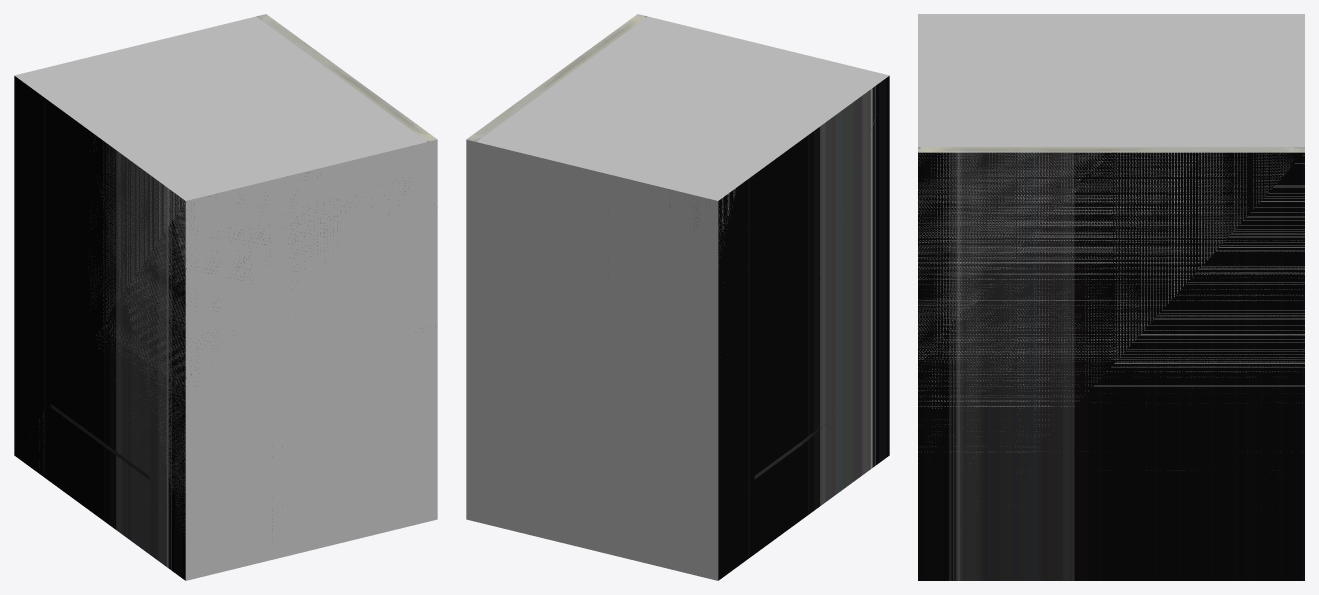
File: stove.DAE
The picture shows the model from 3 angles, left to right: view 1: azimuth 30°, elevation 25°; view 2: azimuth 150°, elevation 25°; view 3: azimuth 270°, elevation 25°; orthographic projection. The views are drawn at different scales.
Parts seen in each view (by area): view 1: bounds, colbox-1, stove100; view 2: bounds, colbox-1, stove100; view 3: colbox-1, bounds, stove100.
Boxes of the visible parts, x1=… form: bounds: x1=14, y1=15, x2=437, y2=580; colbox-1: x1=14, y1=76, x2=420, y2=580; stove100: x1=50, y1=14, x2=437, y2=479; bounds: x1=466, y1=15, x2=889, y2=580; colbox-1: x1=669, y1=76, x2=889, y2=580; stove100: x1=466, y1=14, x2=825, y2=479; colbox-1: x1=918, y1=152, x2=1304, y2=580; bounds: x1=918, y1=14, x2=1304, y2=470; stove100: x1=918, y1=147, x2=1304, y2=152.
Bounding box in the file's own units: 81.49 × 96.07 × 117.
